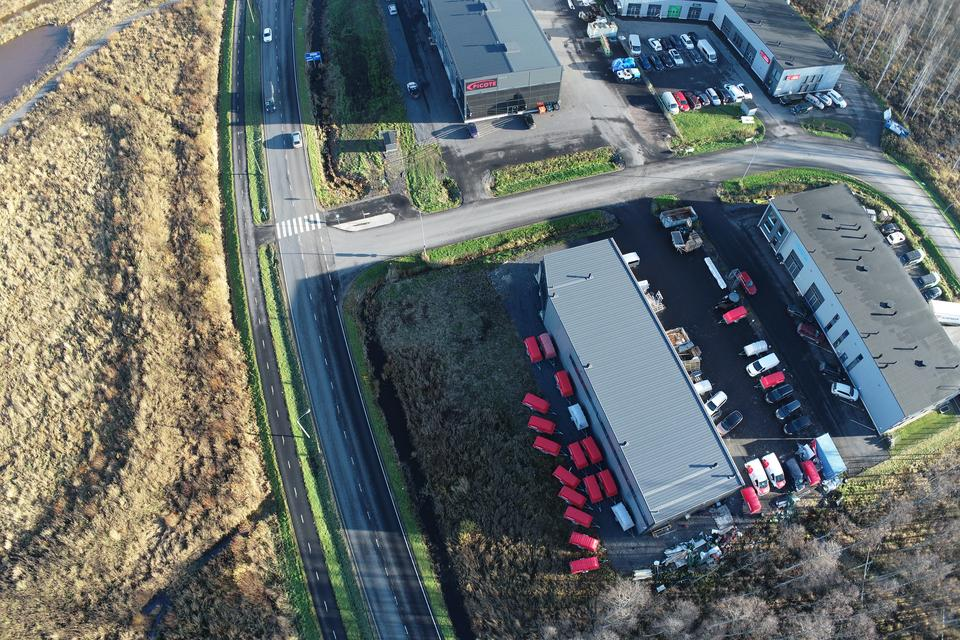intersection: (199, 184, 433, 303)
